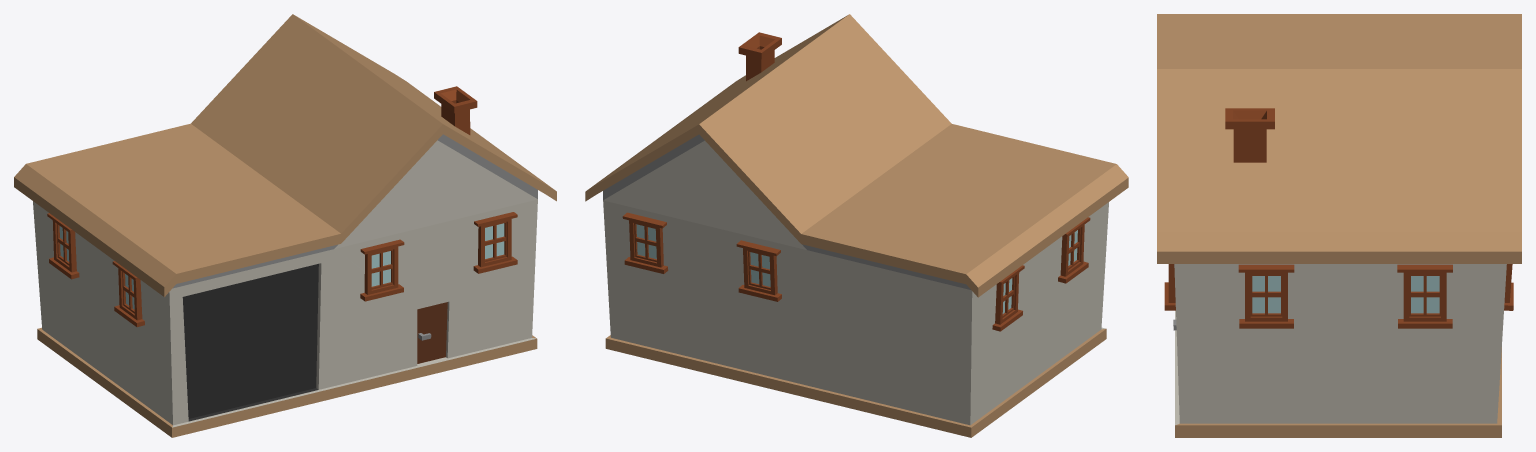
File: house-4.glb
3 views of the same model, side by side, from view 1: azimuth 30°, elevation 25°; view 2: azimuth 150°, elevation 25°; view 3: azimuth 270°, elevation 25° (orthographic). The views are drawn at different scales.
Bounding box in the file's own units: 2.16 × 1.34 × 1.44.
